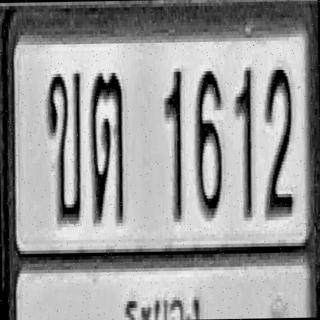A02: (46, 70, 82, 224)
A21: (88, 71, 125, 222)
N01: (163, 65, 184, 219), (234, 65, 254, 216)
N02: (263, 65, 294, 215)
N06: (194, 66, 223, 216)
